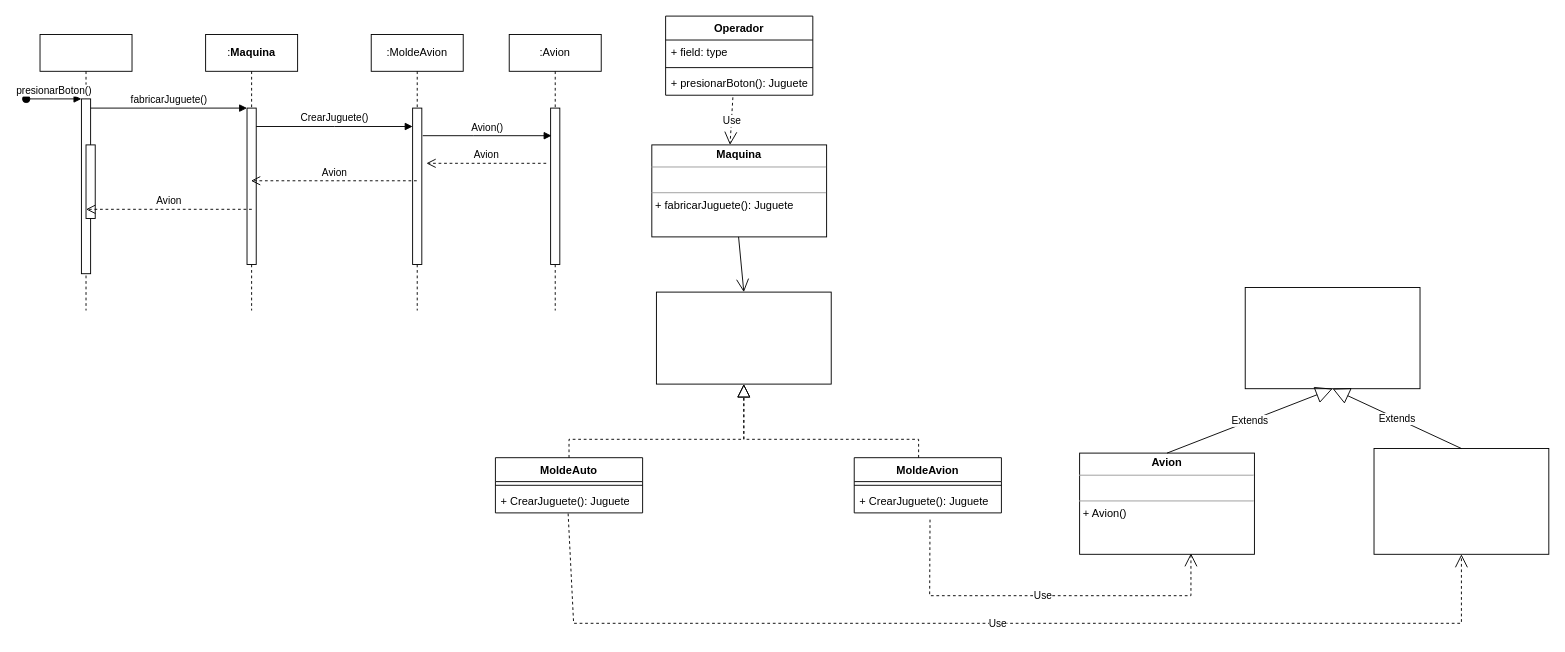
The diagram is 1565 pixels wide and 652 high, and some of its shapes have lost their labels. The shapes that lost their labels are listed below. From the top down, each one's centre as x and y in pixels, then its label:
At (x=85, y=172): ":Operador".
At (x=743, y=337): "<<Interface>> Molde + CrearJuguete(): Juguete".
At (x=1332, y=338): "<<Abstracta>> Juguete + Juguete()".
At (x=1461, y=501): "Auto + Auto()".
